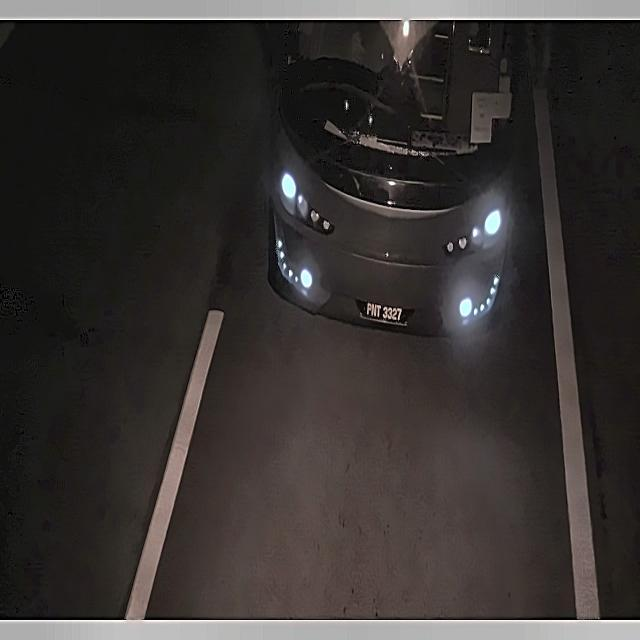car: (356, 296, 415, 330)
